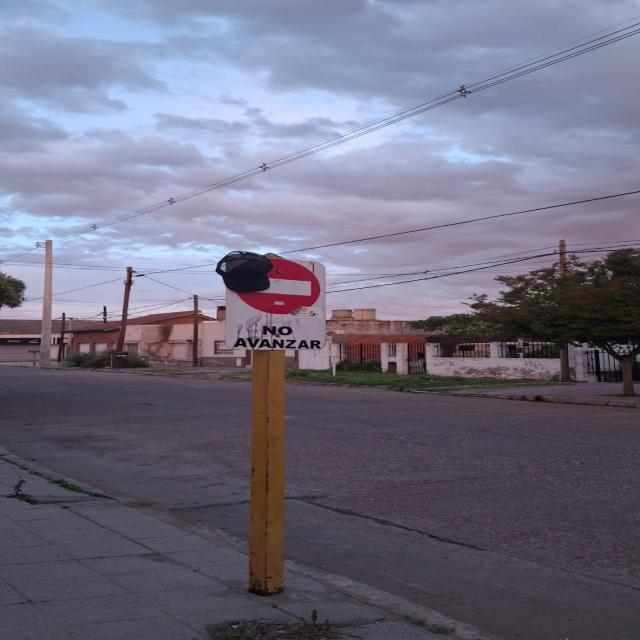Gorra: (212, 251, 279, 294)
